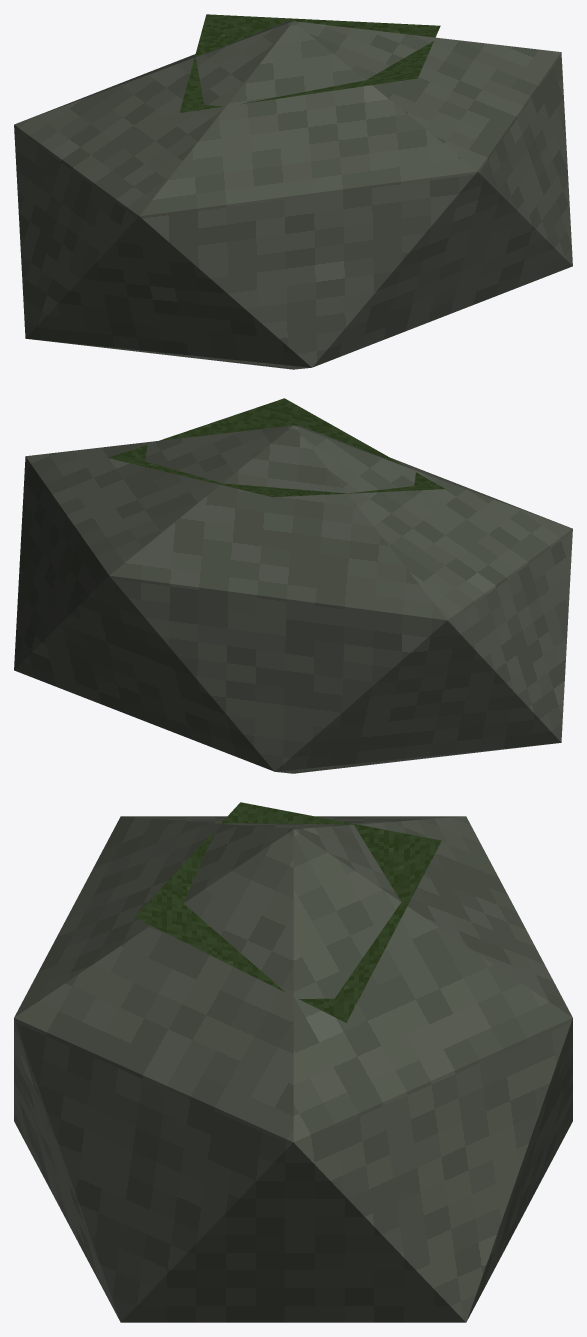
The model's file is level_woodland_boulder.glb.
3 renders of one model, top to bottom at view 1: azimuth 30°, elevation 25°; view 2: azimuth 150°, elevation 25°; view 3: azimuth 270°, elevation 25°, orthographic. The views are drawn at different scales.
Parts seen in each view (by area): view 1: level_woodland_boulder; view 2: level_woodland_boulder; view 3: level_woodland_boulder.
Boxes of the visible parts, box(x1,y1,x2,y2) form: level_woodland_boulder: box(14, 14, 572, 369); level_woodland_boulder: box(14, 398, 572, 773); level_woodland_boulder: box(14, 802, 572, 1322).
Bounding box in the file's own units: 1.61 × 1 × 1.05.
2 materials, 2 textured.
